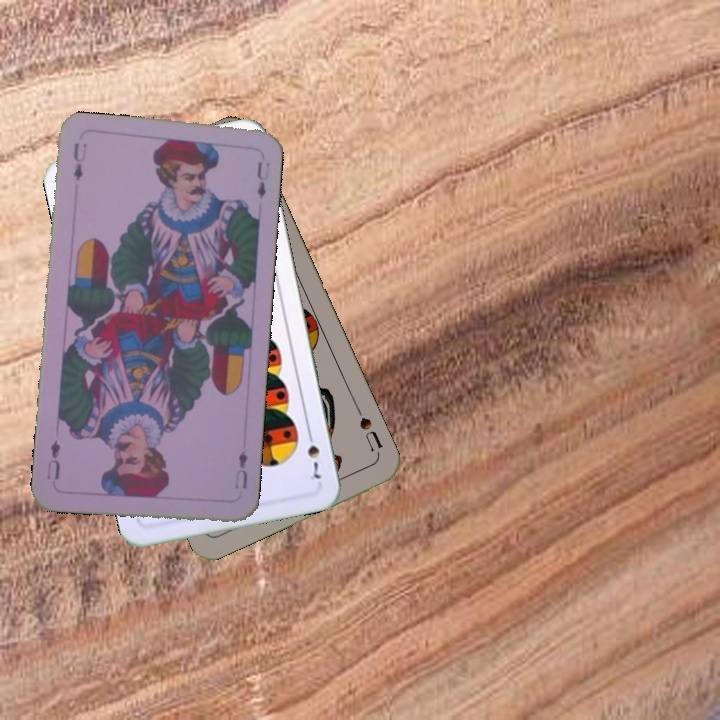EU: (230, 446, 250, 492), (69, 138, 88, 183)
S7: (303, 426, 323, 484)
SU: (351, 402, 385, 458)
